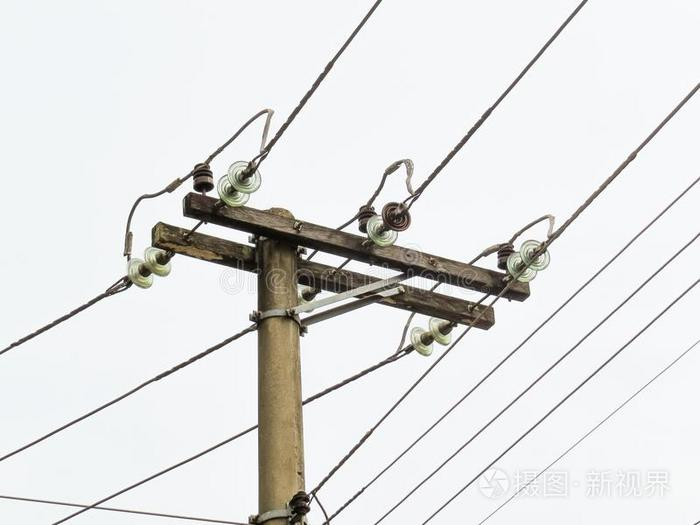insulator: (366, 200, 415, 248), (215, 158, 261, 206), (125, 248, 176, 289), (510, 239, 555, 284), (410, 319, 455, 356)
